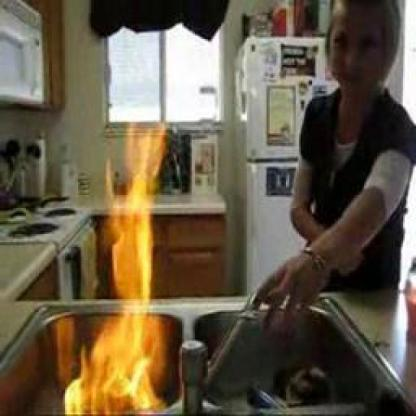fire: (65, 116, 168, 416)
